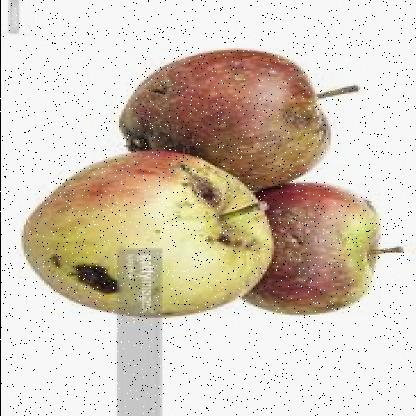damaged_apple: (23, 153, 273, 331), (112, 48, 334, 188), (238, 181, 387, 314)
